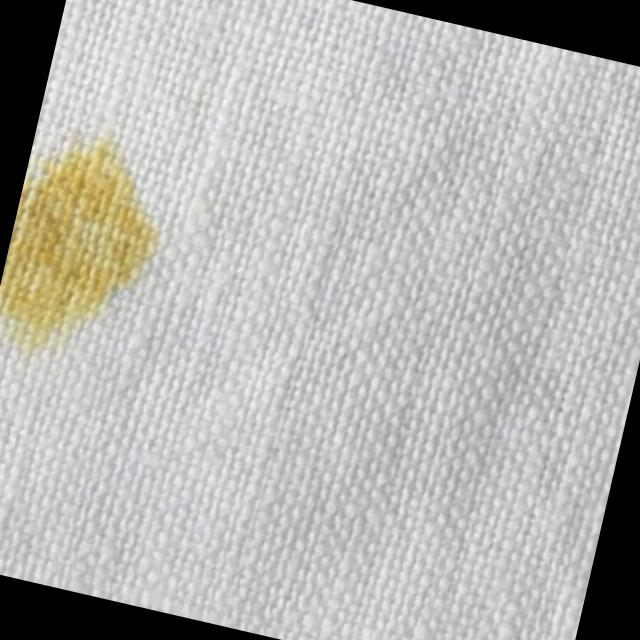Stain: (0, 124, 183, 365)
